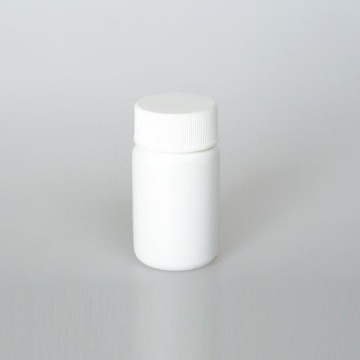medicinejar: (125, 94, 227, 271)
